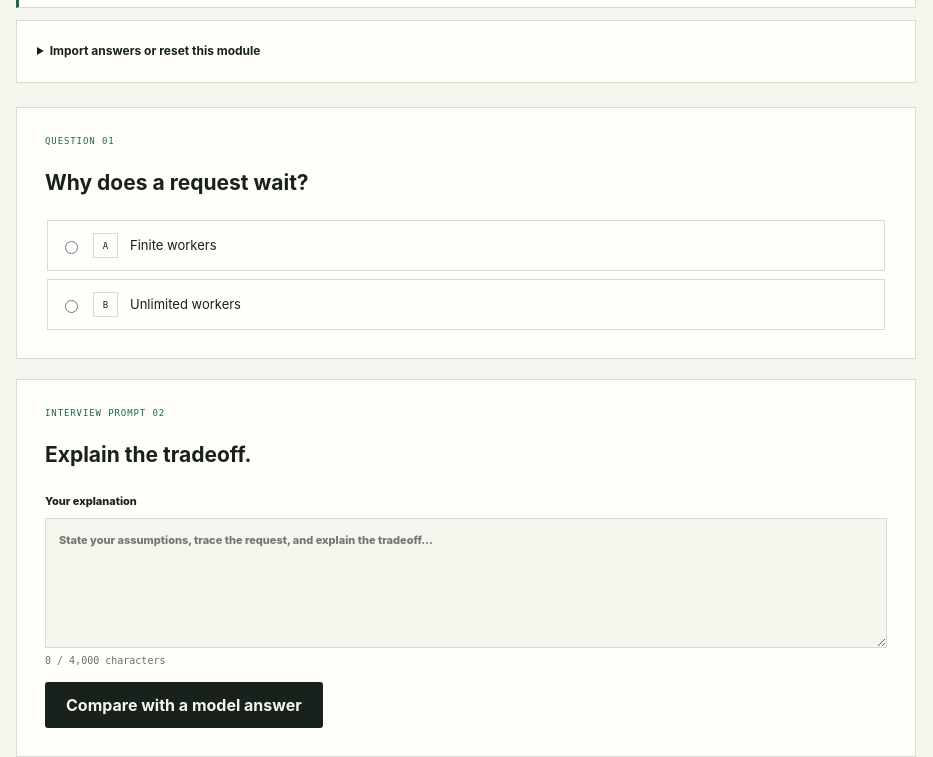
saved practice answers › allows reading a reference without claiming a written attempt
The width and height of the screenshot is (933, 757).
(page scrolled)
Click the button "Compare with a model answer" at (184, 705), box [45, 682, 323, 728]
(page scrolled)
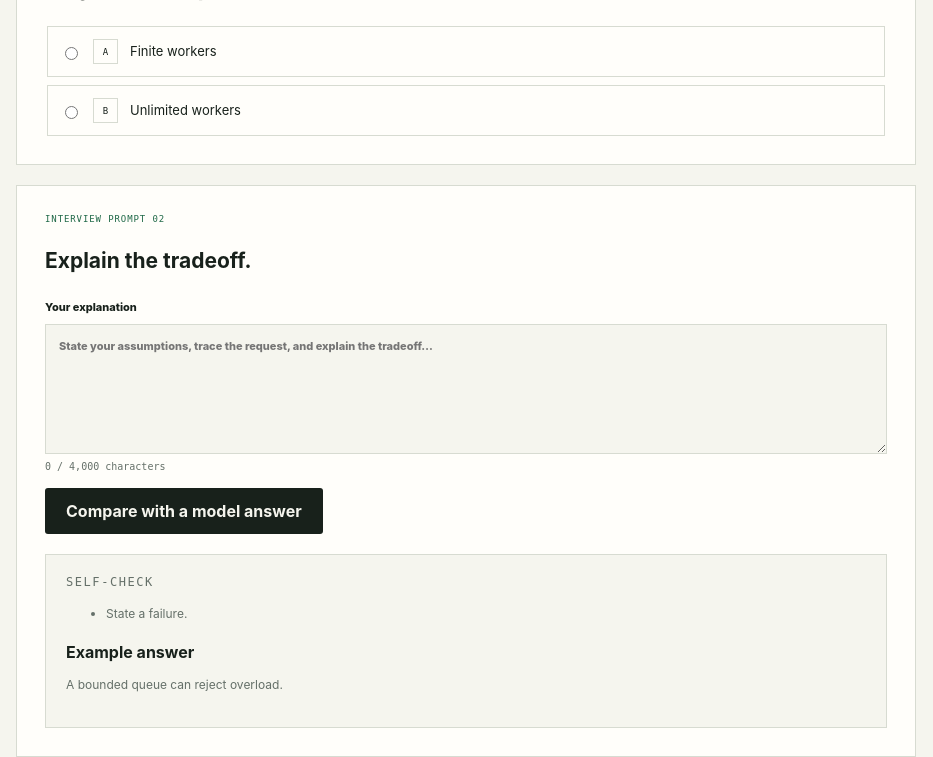
Now the text "A bounded queue can reject overload." is shown, box [66, 677, 283, 692]
